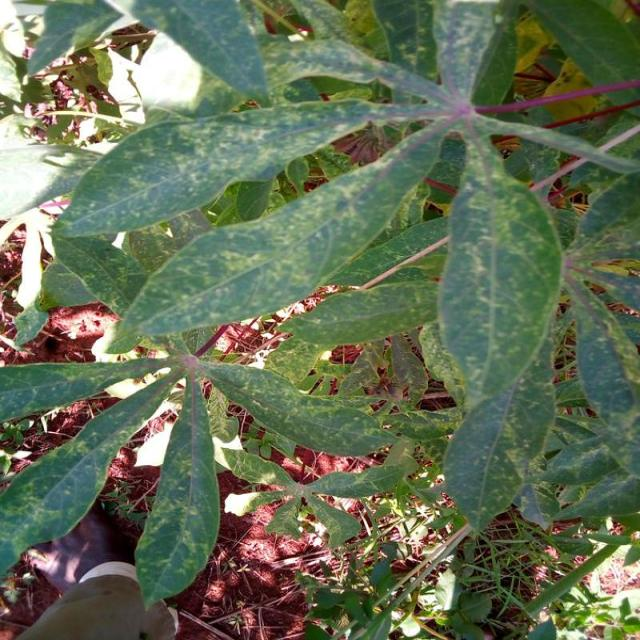cassava leaf: (1, 0, 638, 610), (101, 116, 446, 353), (436, 134, 563, 536)
